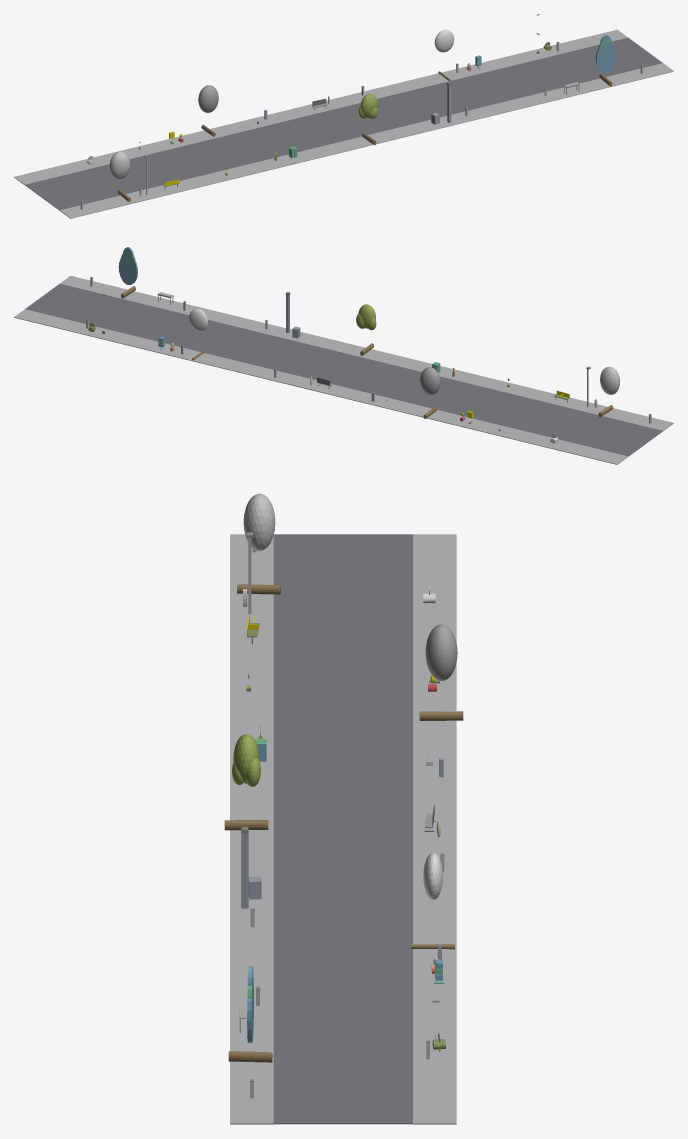
The picture shows the model from 3 angles, top to bottom: view 1: azimuth 30°, elevation 25°; view 2: azimuth 150°, elevation 25°; view 3: azimuth 270°, elevation 25°; orthographic projection. The views are drawn at different scales.
Visible parts, largest first — view 1: road_slab, sidewalk_left, sidewalk_right, inst_0016, inst_0012, inst_0013, inst_0014, inst_0015; view 2: road_slab, sidewalk_right, sidewalk_left, inst_0016, inst_0012, inst_0013, inst_0014, inst_0015; view 3: road_slab, sidewalk_right, sidewalk_left, inst_0013, inst_0012, inst_0014, inst_0016, inst_0015.
Part boxes in pixels (x1=…): road_slab: x1=25, y1=37, x2=662, y2=210; sidewalk_left: x1=59, y1=63, x2=673, y2=218; sidewalk_right: x1=14, y1=29, x2=627, y2=184; inst_0016: x1=595, y1=35, x2=615, y2=86; inst_0012: x1=109, y1=151, x2=130, y2=201; inst_0013: x1=198, y1=85, x2=218, y2=136; inst_0014: x1=358, y1=93, x2=377, y2=145; inst_0015: x1=434, y1=29, x2=454, y2=81; road_slab: x1=25, y1=283, x2=662, y2=456; sidewalk_right: x1=14, y1=309, x2=628, y2=464; sidewalk_left: x1=60, y1=275, x2=673, y2=431; inst_0016: x1=118, y1=247, x2=137, y2=298; inst_0012: x1=598, y1=366, x2=619, y2=416; inst_0013: x1=420, y1=367, x2=440, y2=418; inst_0014: x1=356, y1=304, x2=376, y2=355; inst_0015: x1=189, y1=308, x2=207, y2=360; road_slab: x1=273, y1=534, x2=412, y2=1124; sidewalk_right: x1=413, y1=534, x2=456, y2=1124; sidewalk_left: x1=230, y1=534, x2=273, y2=1124; inst_0013: x1=419, y1=624, x2=463, y2=720; inst_0012: x1=237, y1=493, x2=280, y2=594; inst_0014: x1=224, y1=734, x2=268, y2=830; inst_0016: x1=228, y1=966, x2=272, y2=1062; inst_0015: x1=411, y1=852, x2=454, y2=949.
Bounding box in the file's own units: 80 × 6.08 × 13.71.
